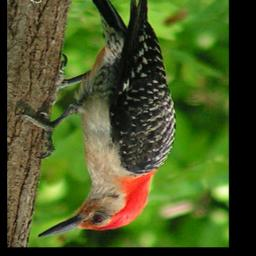Woodpecker: (14, 0, 177, 238)
